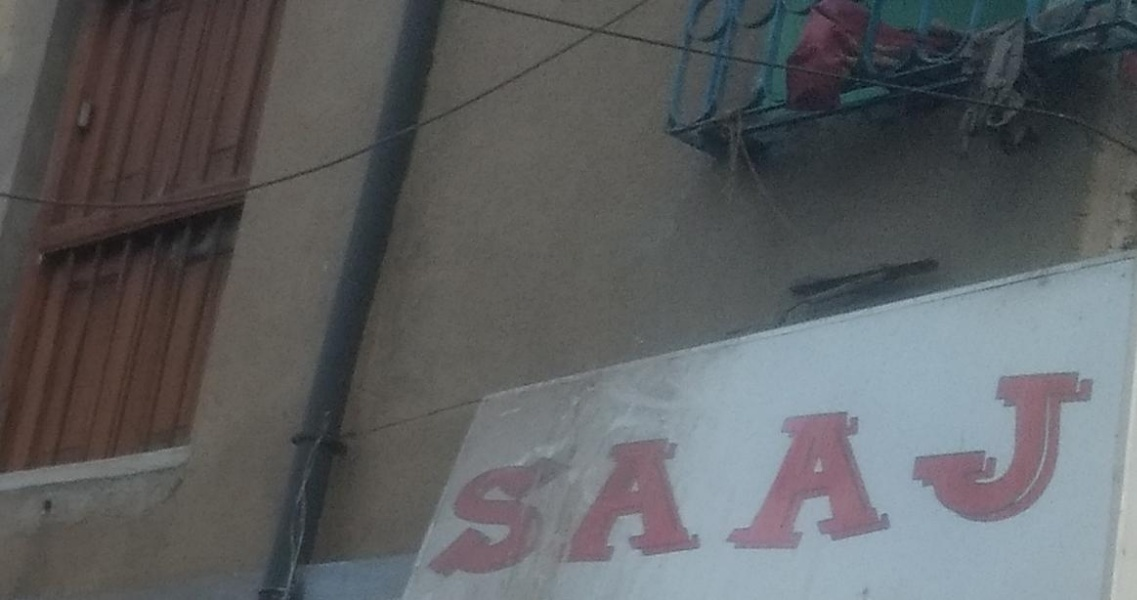text: (465, 355, 480, 595), (481, 355, 496, 595), (497, 355, 512, 595), (513, 355, 528, 595), (529, 355, 544, 595), (545, 355, 560, 595), (561, 355, 576, 595), (577, 355, 592, 595), (593, 355, 608, 595), (609, 355, 624, 595), (625, 355, 640, 595), (641, 355, 656, 595), (657, 355, 672, 595), (673, 355, 688, 595), (689, 355, 704, 595), (705, 355, 720, 595), (721, 355, 736, 595), (737, 355, 752, 595), (753, 355, 768, 595), (769, 355, 784, 595), (785, 355, 800, 595), (801, 355, 816, 595), (817, 355, 832, 595), (833, 355, 848, 595), (849, 355, 864, 595), (865, 355, 880, 595), (881, 355, 896, 595), (897, 355, 912, 595), (913, 355, 928, 595), (929, 355, 944, 595), (945, 355, 960, 595), (961, 355, 976, 595), (977, 355, 992, 595), (993, 355, 1008, 595), (1009, 355, 1024, 595), (1025, 355, 1040, 595), (1041, 355, 1056, 595), (1057, 355, 1072, 595), (1073, 355, 1088, 595), (1089, 355, 1104, 595), (459, 355, 464, 595), (1105, 355, 1106, 595)
